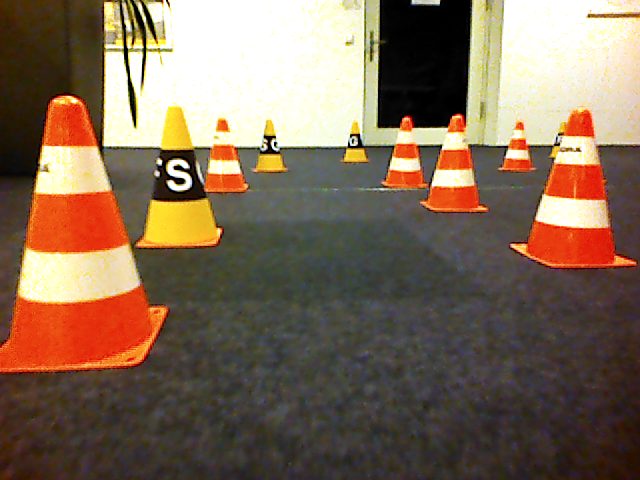orangeconesmall: (1, 93, 168, 372), (511, 108, 639, 268), (422, 113, 489, 212), (204, 119, 250, 193), (382, 115, 428, 188), (498, 122, 537, 173)
yellowcone: (135, 107, 223, 249), (251, 119, 288, 172), (340, 121, 370, 162)
